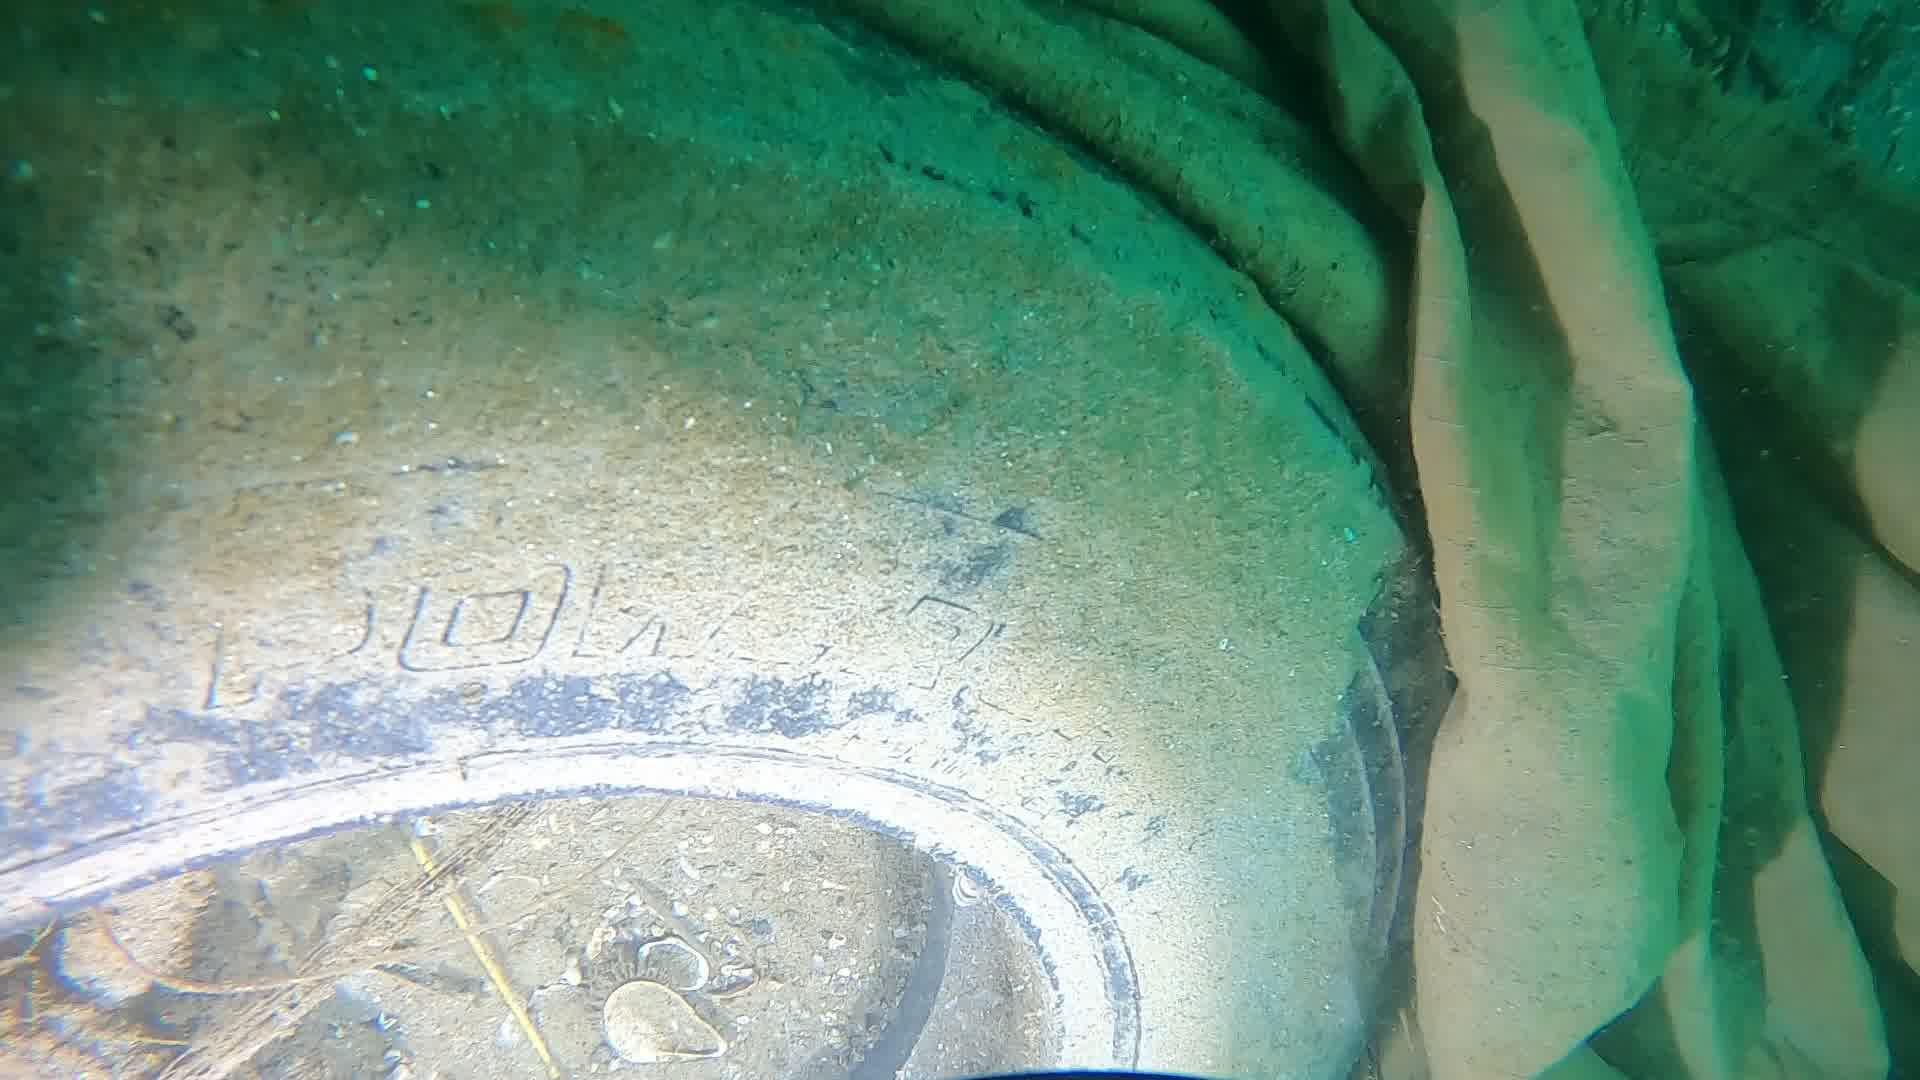tire: (0, 0, 1456, 1080)
